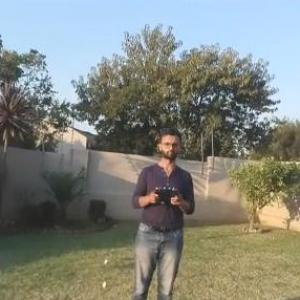follow: (124, 113, 203, 299)
